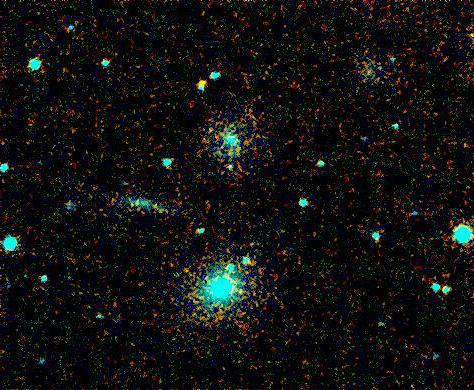star: (188, 69, 218, 99)
